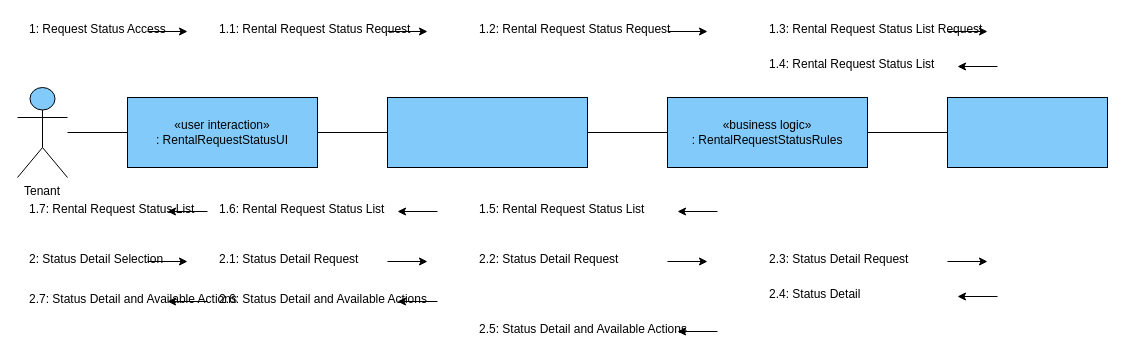
Some shapes in this 1125 by 358 pixel diagram are drawn without their labels. The centre of each missing label's shape, as x and y in pixels:
«coordinator» : RentalRequestCoordinator: the point at 487,132
«entity» : RentalRequest: the point at 1027,132
